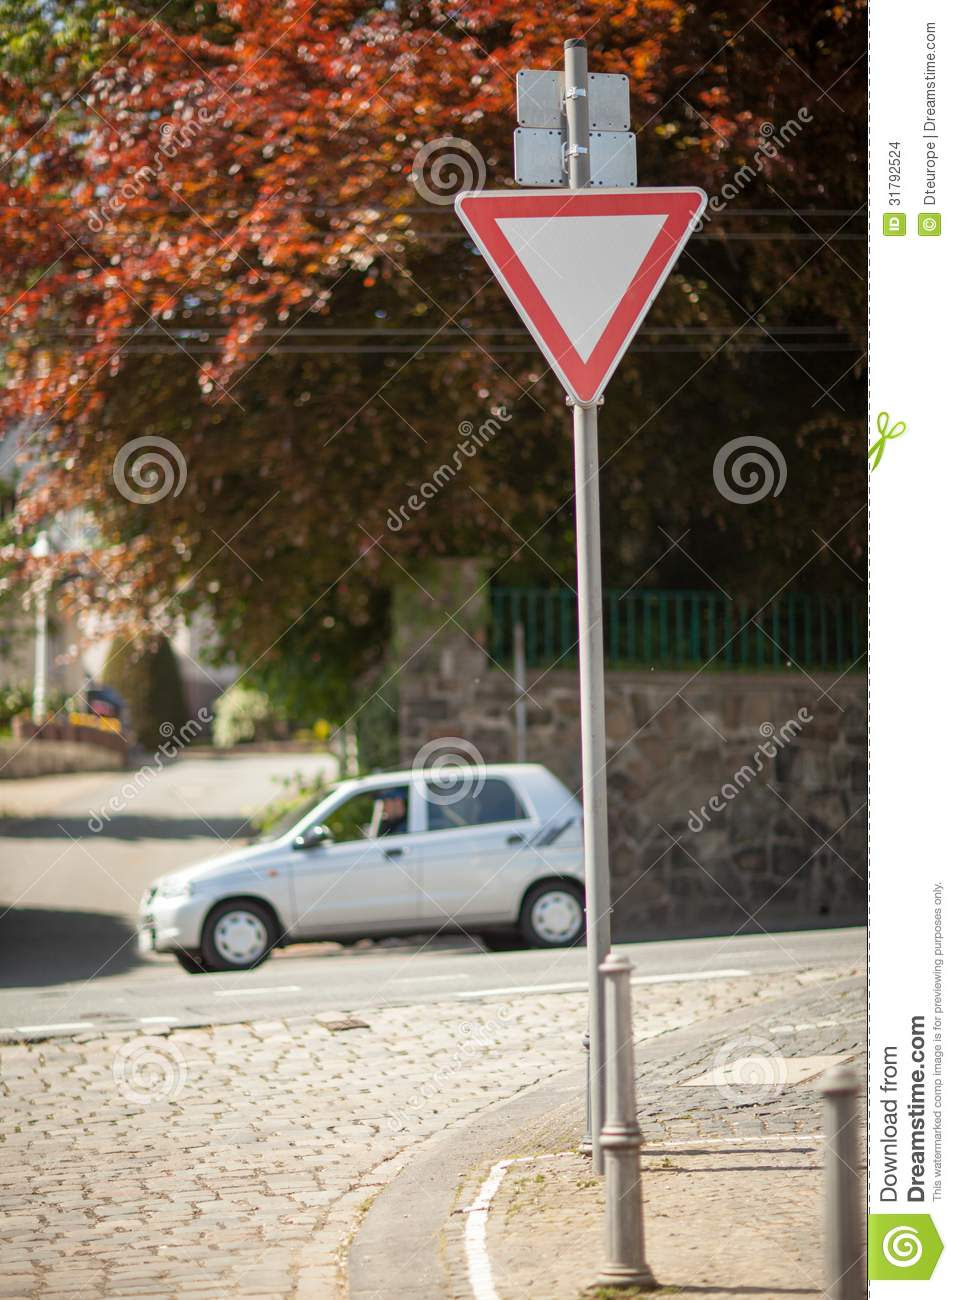yield_sign: (456, 183, 708, 404)
